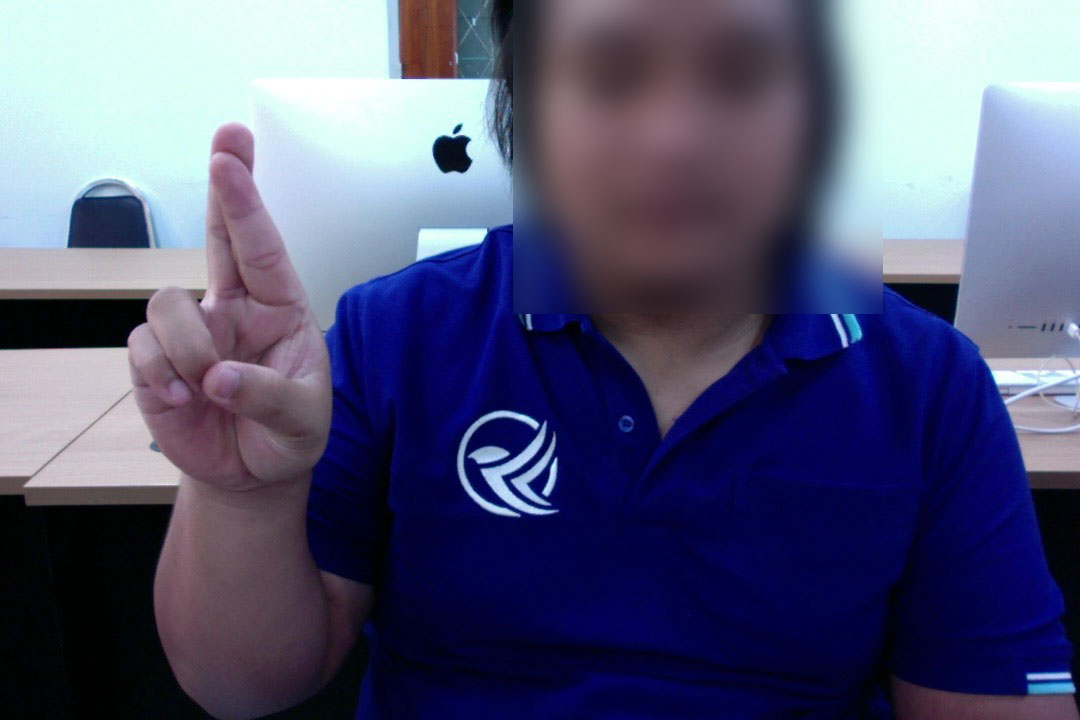rao: (122, 116, 342, 500)
